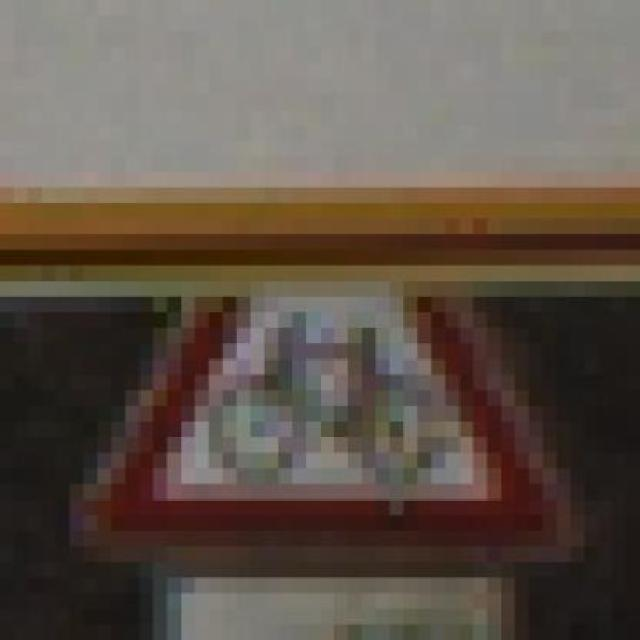CYCLE ROUTE AHEAD WARNING: (83, 266, 585, 562)
